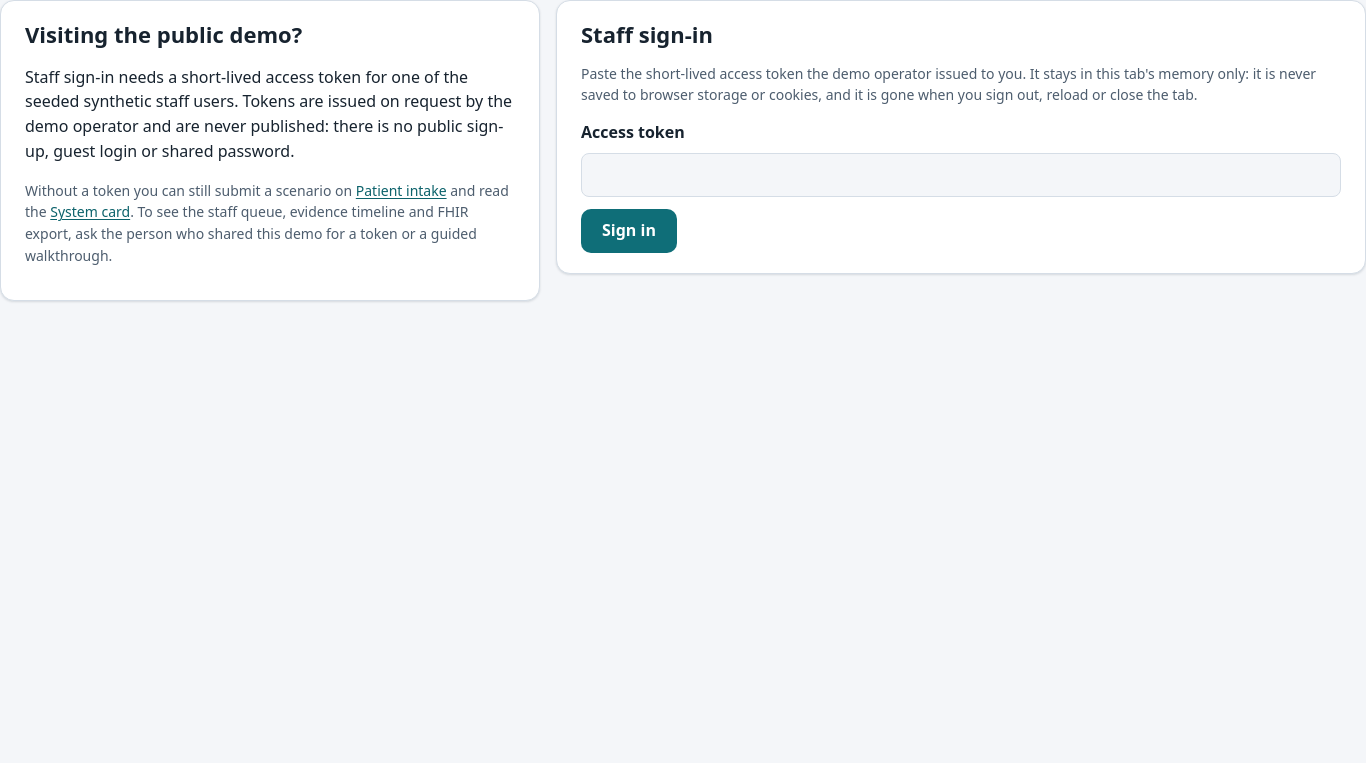
Test case: StaffReview detail and transitions › does not offer transitions for an intake that is not in needs_review
The width and height of the screenshot is (1366, 763).
In the password field labelled "Access token": (961, 175) [581,153,1341,197], type "v1.payload.signature"
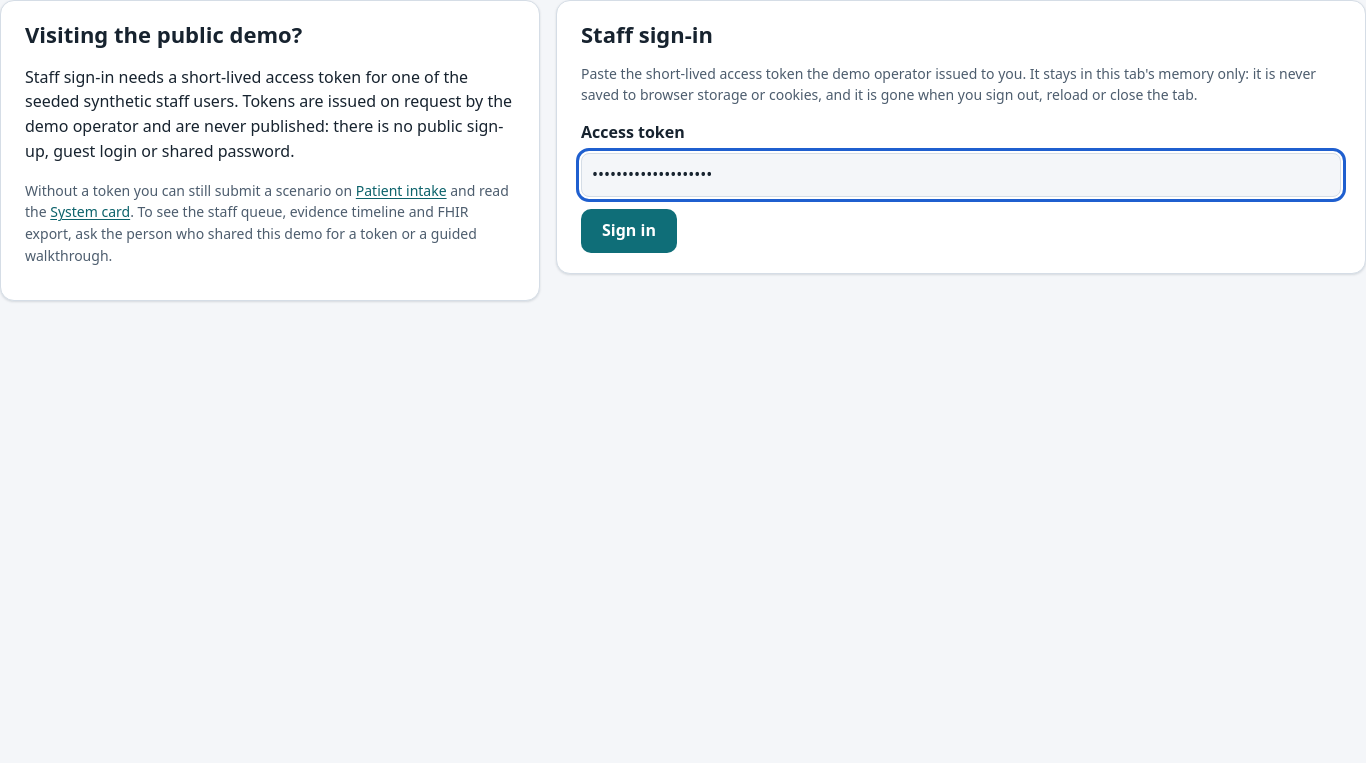
Click the button "Sign in": click(629, 231) [581,209,677,253]
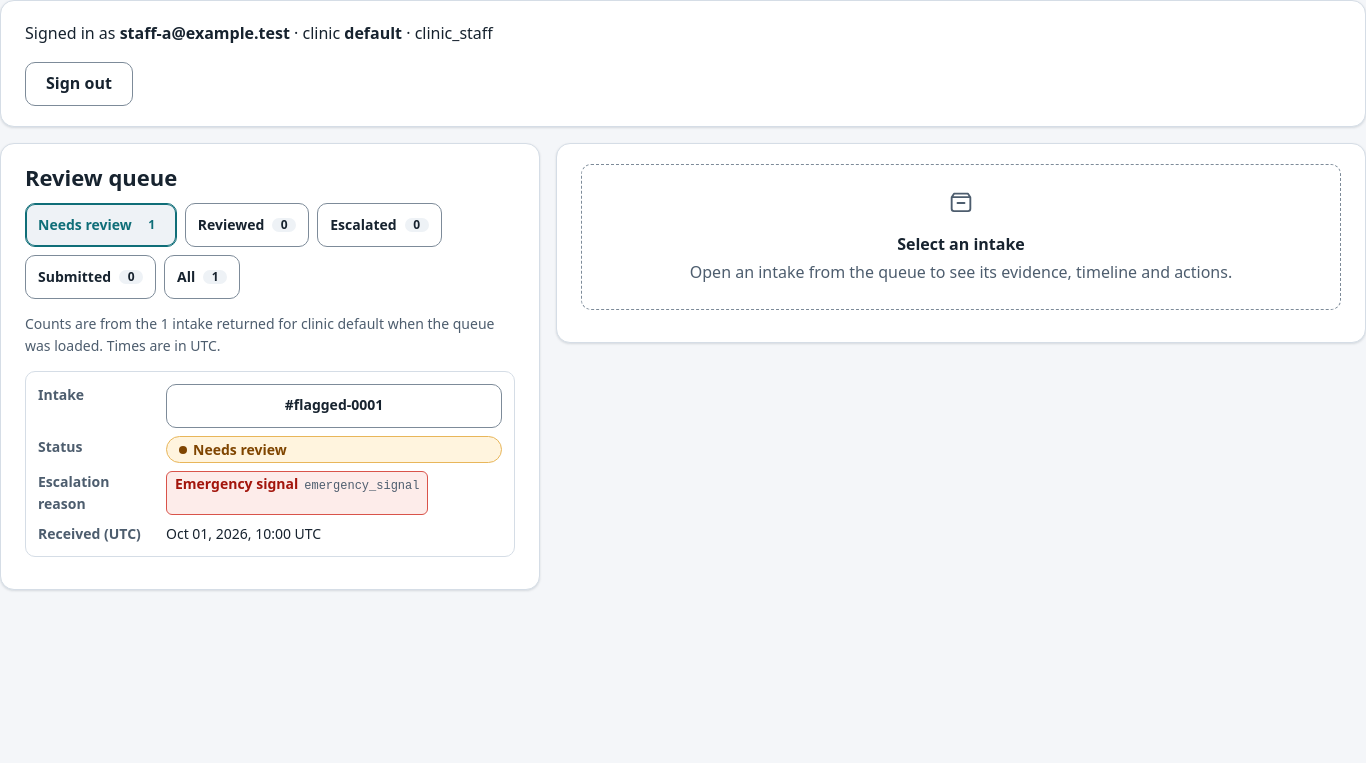
Click the button with aria-label "Open ": click(334, 406) [166,384,502,428]
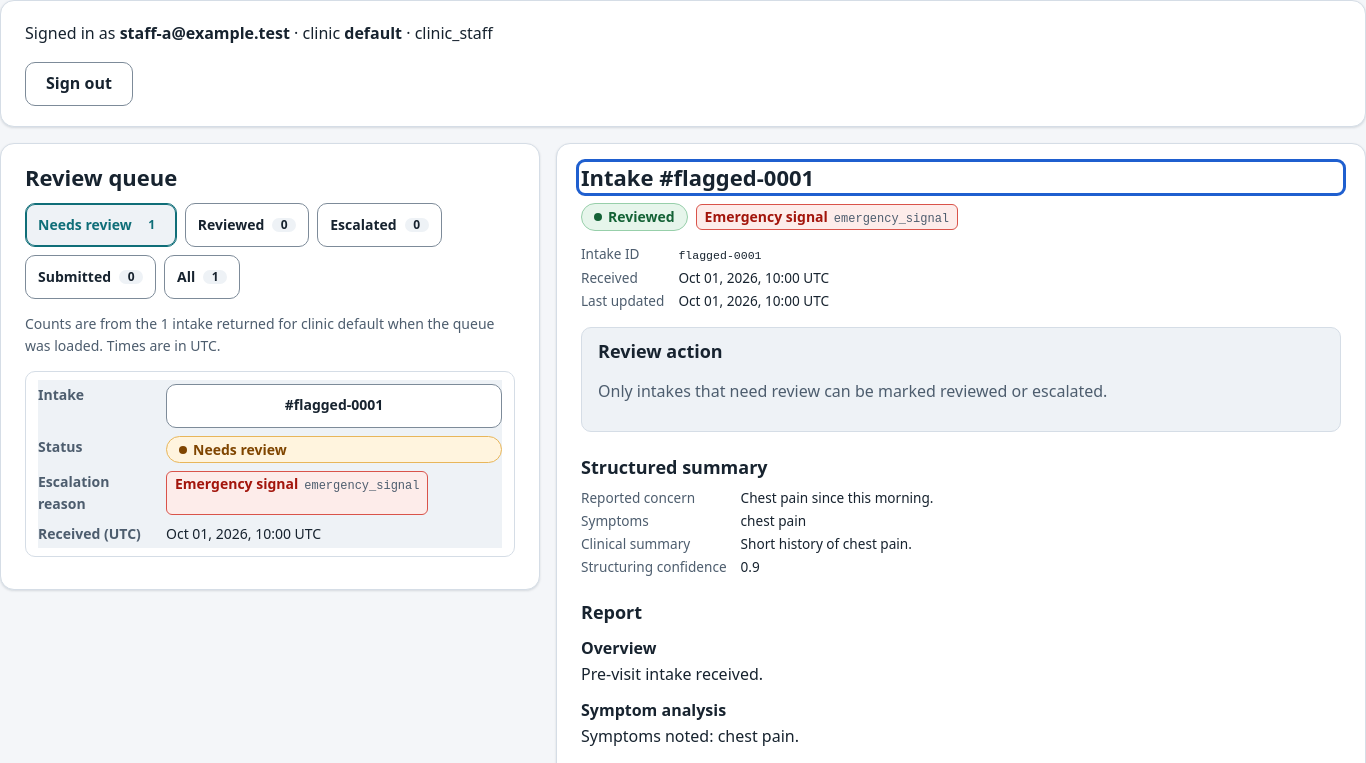
expect the text "Only intakes that need review" is shown: met, box [598,380,1107,402]
